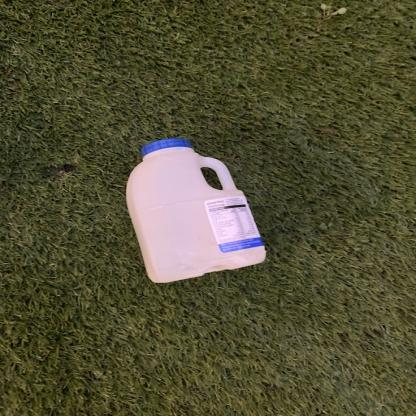trash: (127, 140, 269, 285)
